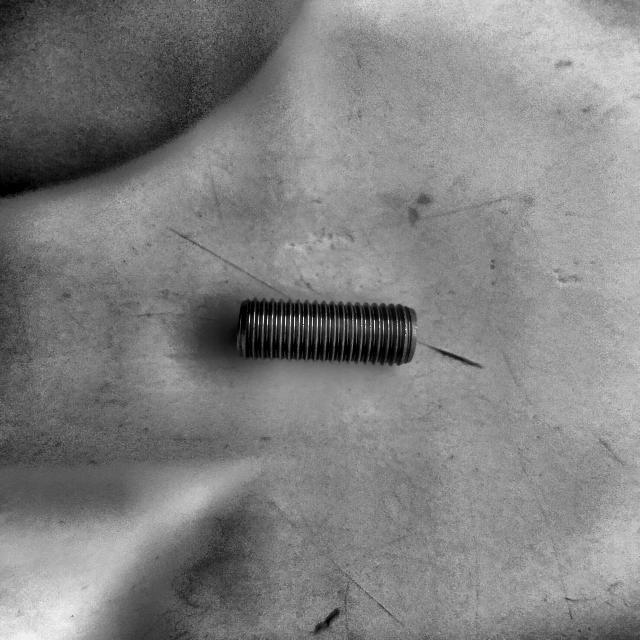Normal: (238, 298, 418, 368)
